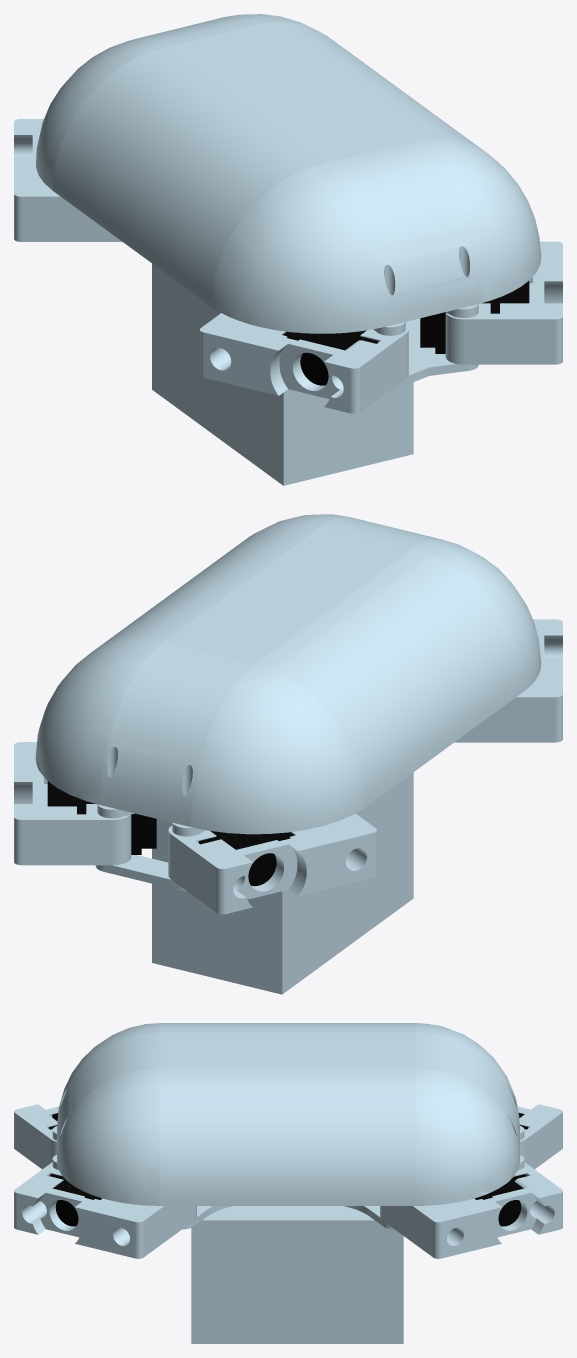
3 renders of one model, top to bottom at view 1: azimuth 30°, elevation 25°; view 2: azimuth 150°, elevation 25°; view 3: azimuth 270°, elevation 25°, orthographic. The views are drawn at different scales.
Parts seen in each view (by area): view 1: Object.045, Object.028, Object.048, Object.025, Object.024, Object.027, Part 1.018, Part 1.015, Object.042; view 2: Object.045, Object.028, Object.024, Object.044, Object.048, Part 1.024, Part 1.023, Object.037, Object.042; view 3: Object.045, Object.028, Object.025, Object.044, Object.024, Object.048, Part 1.015, Part 1.024, Object.027.
Boxes of the visible parts, x1,y1,x2,y2 form: Object.045: (36, 14, 541, 333); Object.028: (152, 263, 413, 485); Object.048: (200, 313, 408, 413); Object.025: (445, 241, 562, 364); Object.024: (14, 119, 122, 241); Object.027: (392, 318, 478, 389); Part 1.018: (283, 330, 378, 385); Part 1.015: (420, 281, 529, 353); Object.042: (373, 304, 478, 335); Object.045: (35, 514, 541, 834); Object.028: (152, 772, 413, 994); Object.024: (168, 813, 376, 914); Object.044: (14, 742, 131, 865); Object.048: (454, 619, 562, 742); Part 1.024: (47, 781, 156, 854); Part 1.023: (198, 831, 294, 886); Object.037: (95, 855, 186, 890); Object.042: (97, 804, 205, 836); Object.045: (57, 1023, 519, 1205); Object.028: (191, 1206, 403, 1343); Object.025: (14, 1162, 196, 1258); Object.044: (380, 1162, 562, 1258); Object.024: (517, 1104, 562, 1169); Object.048: (14, 1104, 59, 1169); Part 1.015: (49, 1174, 102, 1226); Part 1.024: (474, 1174, 527, 1226); Object.027: (182, 1206, 394, 1229).
Size of the model in its own units: 0.111 by 0.1811 by 0.0974.
